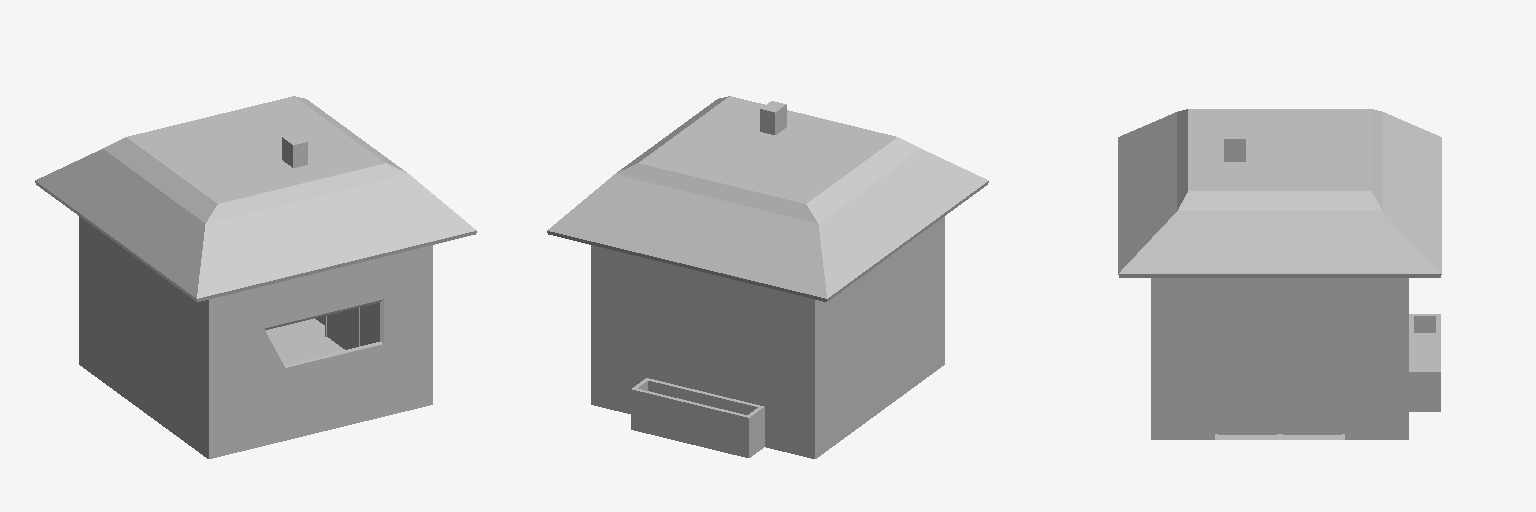
File: test-house.obj
3 views of the same model, side by side, from view 1: azimuth 30°, elevation 25°; view 2: azimuth 150°, elevation 25°; view 3: azimuth 270°, elevation 25° (orthographic).
Visible parts, largest first — view 1: Cube; view 2: Cube; view 3: Cube.
Part boxes in pixels (x1,y1,x2,y2): Cube: (35,96,476,458); Cube: (547,96,988,458); Cube: (1118,109,1441,439).
Size of the model in its own units: 10 by 8.78 by 10.